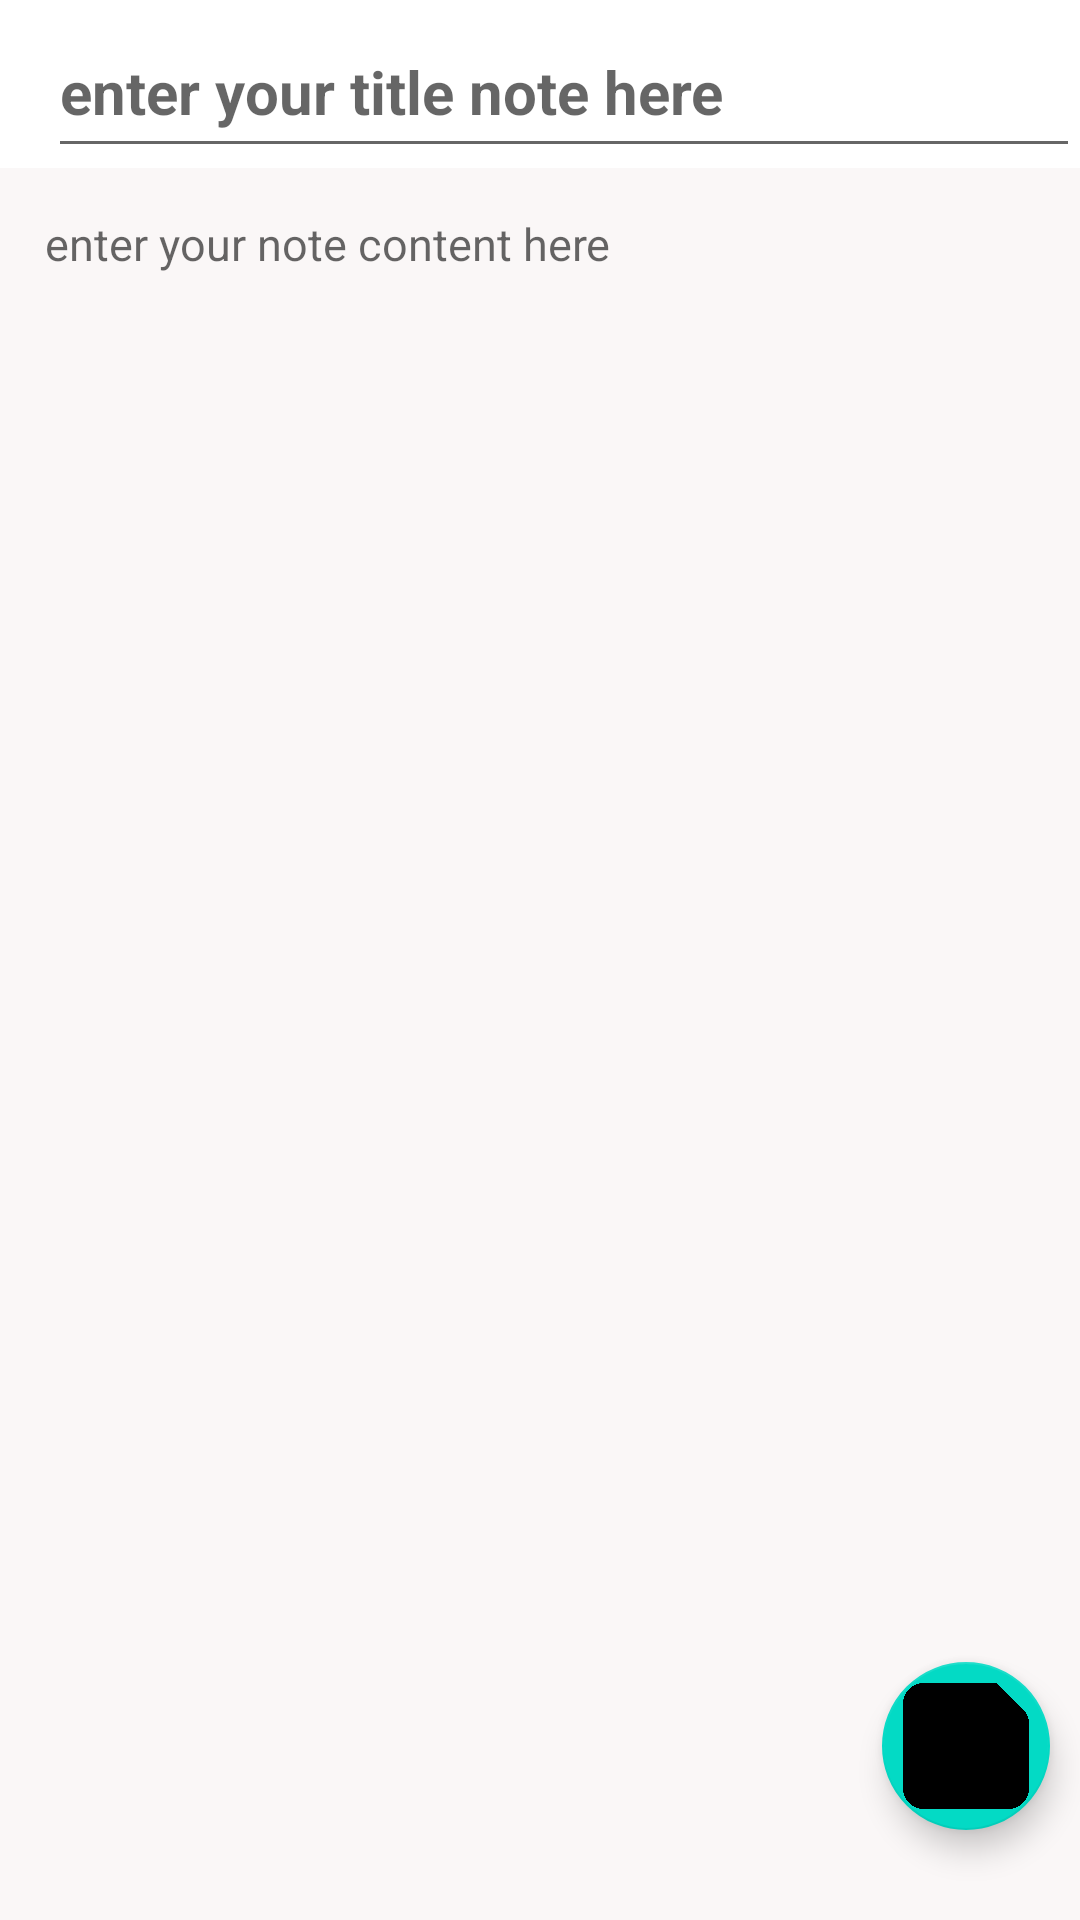

Where icons sit on this 1080w x 1920h app screen, as (x1,y1,x2,y2):
save: (882,1662,1050,1830)
